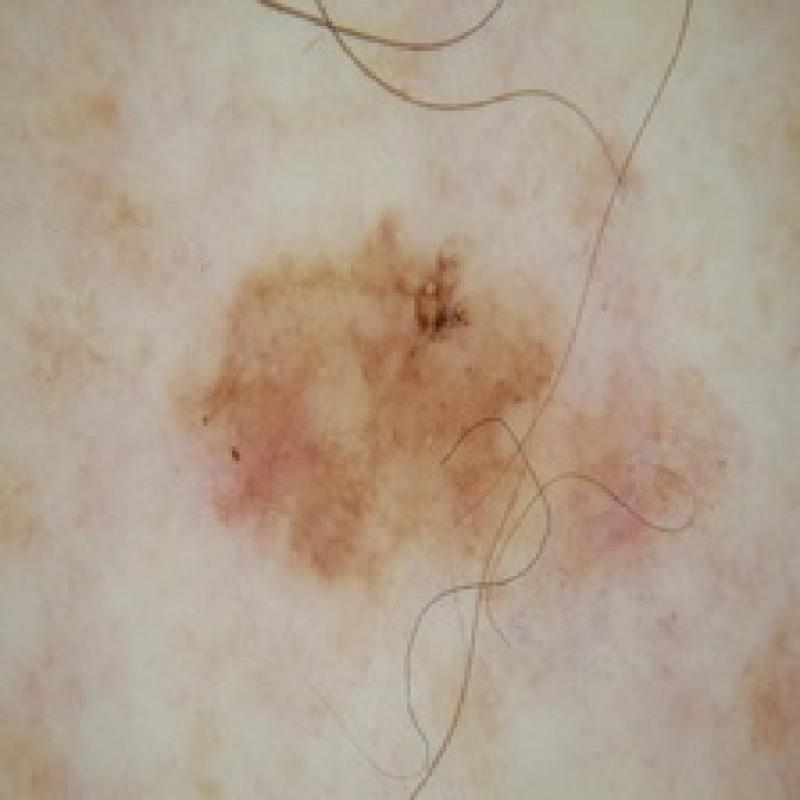malignant: (178, 190, 752, 661)
